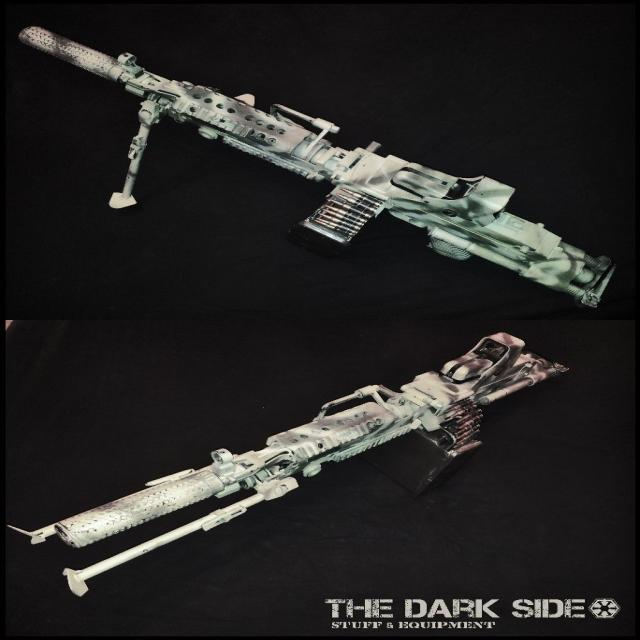firearm: (20, 26, 618, 306), (58, 333, 570, 546)
